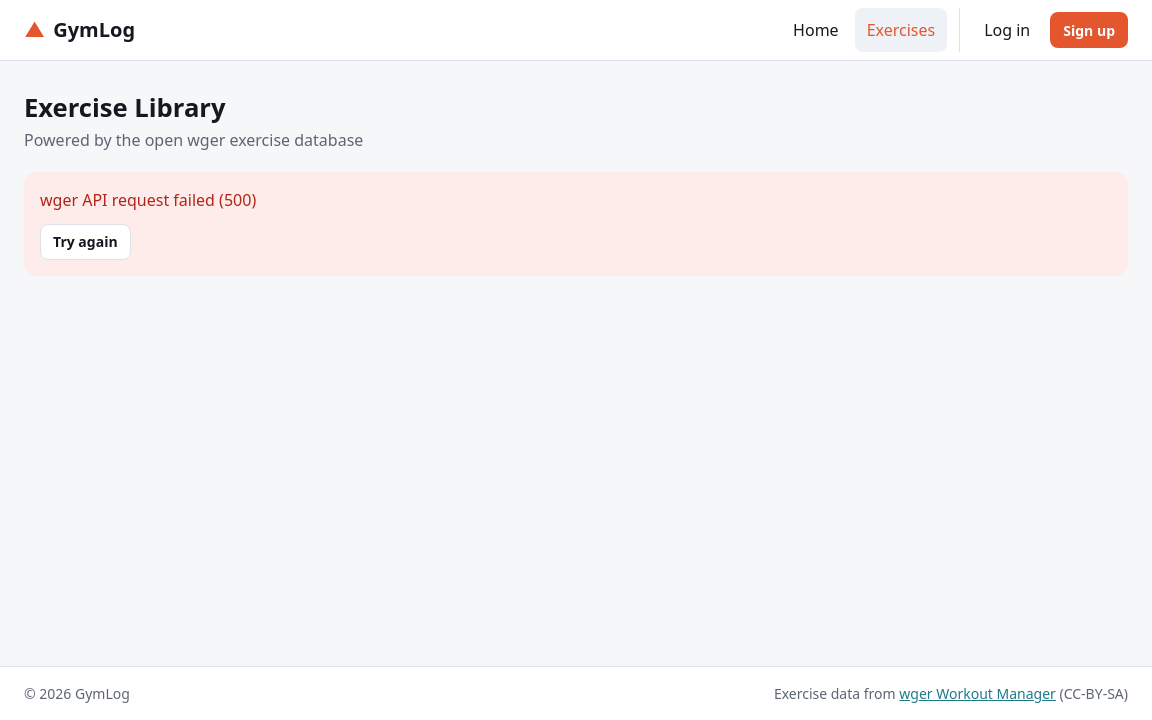
Scenario: Exercise library (API data + local state) › shows an error with a working retry button when the API fails
Check: the message shows "500", box [40,189,256,211]
Step 1. Click the button "Try again" → click(85, 242), box [40,224,131,260]
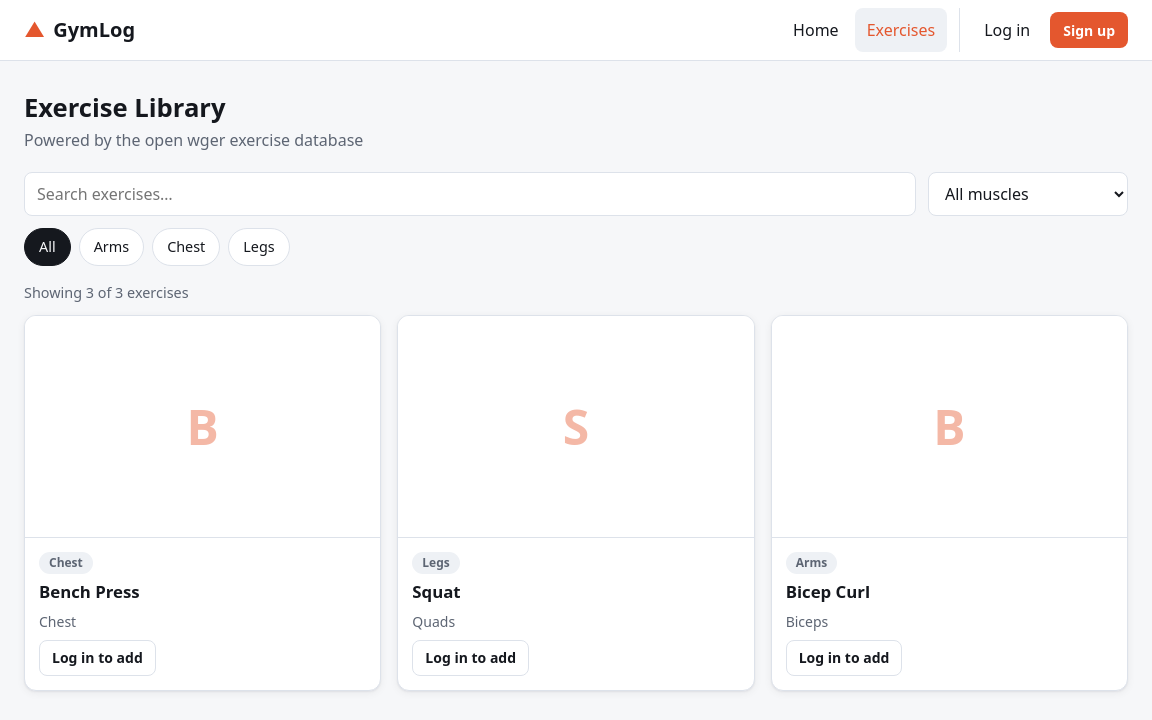
Check: the link "Bench Press" is shown, box [39,580,140,603]
